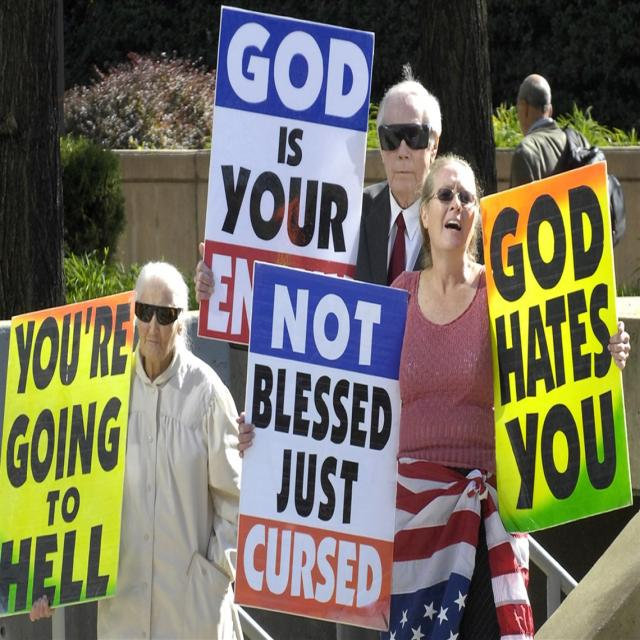body: (230, 148, 634, 639), (92, 257, 247, 640), (193, 75, 447, 307), (506, 71, 628, 248)
